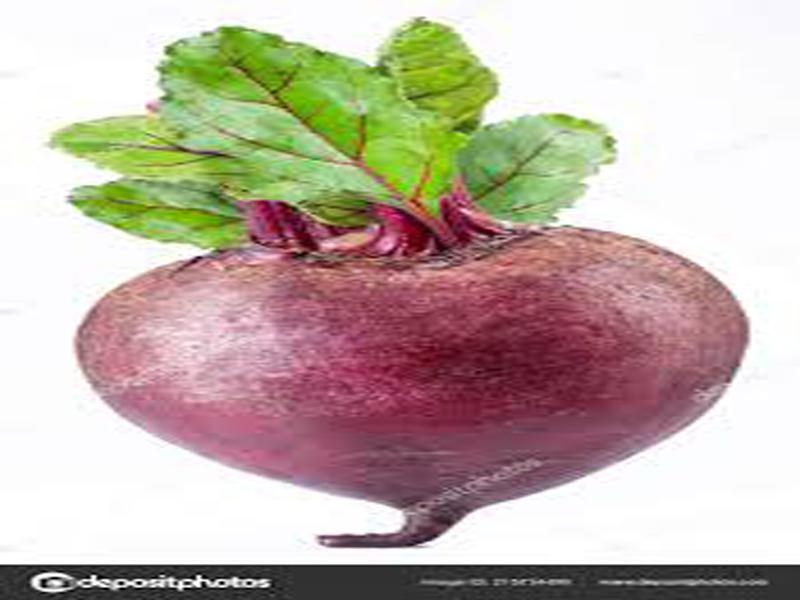Beet: (50, 19, 750, 544)
